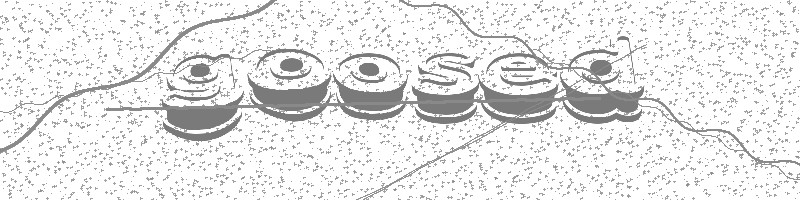d: (560, 33, 645, 127)
e: (478, 52, 561, 125)
g: (159, 49, 245, 142)
o: (247, 46, 330, 121), (332, 51, 408, 121)
s: (409, 51, 478, 125)
